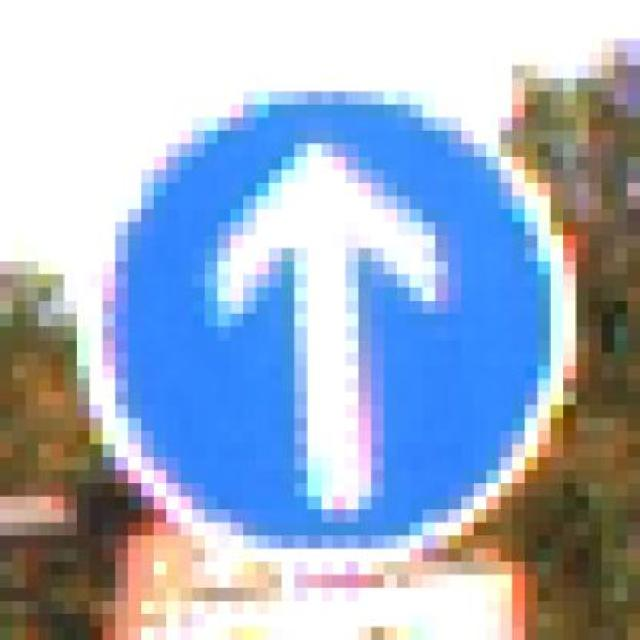Straight Ahead Only: (64, 91, 576, 574)
